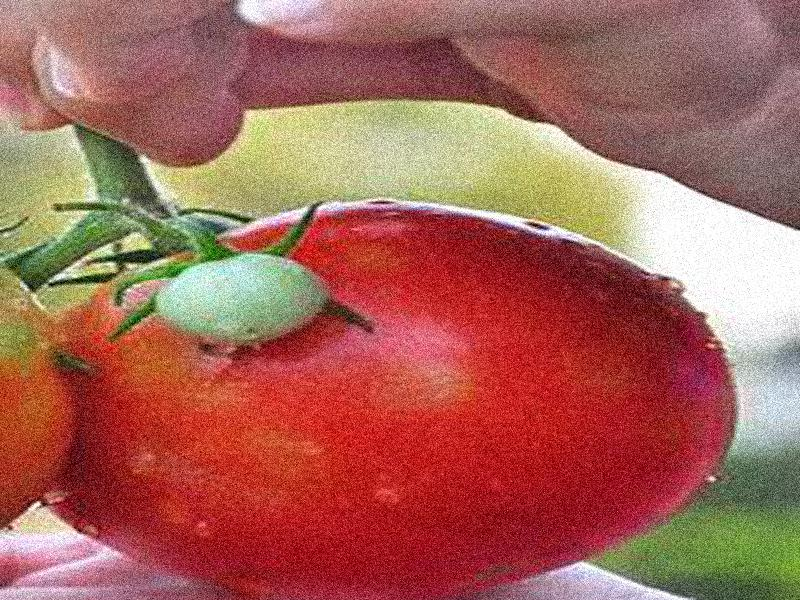Tomato: (48, 199, 734, 600)
